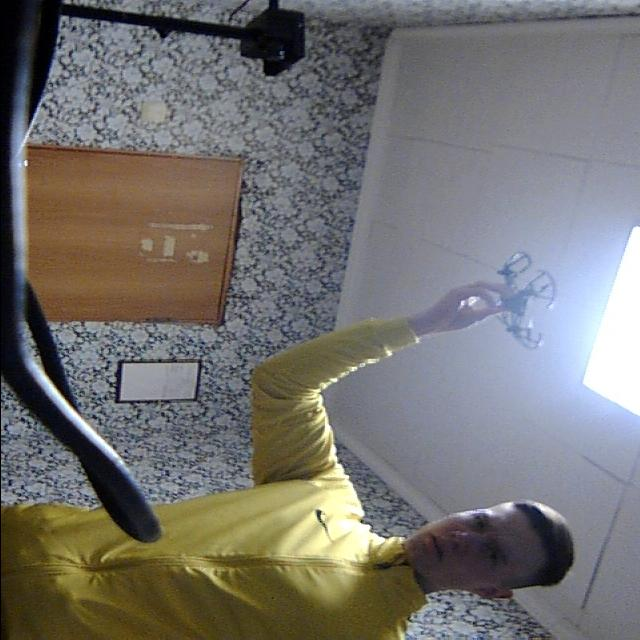drone: (477, 248, 561, 347)
